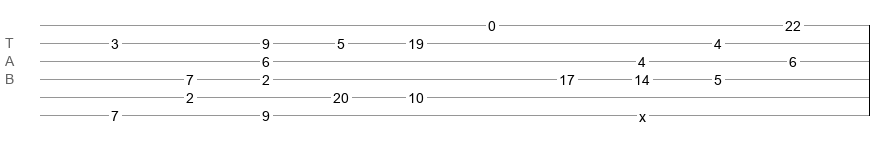0: (488, 18, 496, 28)
10: (408, 90, 424, 100)
14: (634, 72, 650, 82)
17: (559, 72, 575, 82)
19: (408, 36, 424, 46)
2: (186, 90, 194, 100), (262, 72, 270, 82)
20: (333, 90, 349, 100)
22: (785, 18, 801, 28)
3: (111, 36, 119, 46)
4: (638, 54, 646, 64), (714, 36, 722, 46)
5: (337, 36, 345, 46), (714, 72, 722, 82)
6: (262, 54, 270, 64), (789, 54, 797, 64)
7: (111, 108, 119, 118), (186, 72, 194, 82)
9: (262, 108, 270, 118), (262, 36, 270, 46)
x: (639, 109, 646, 117)
